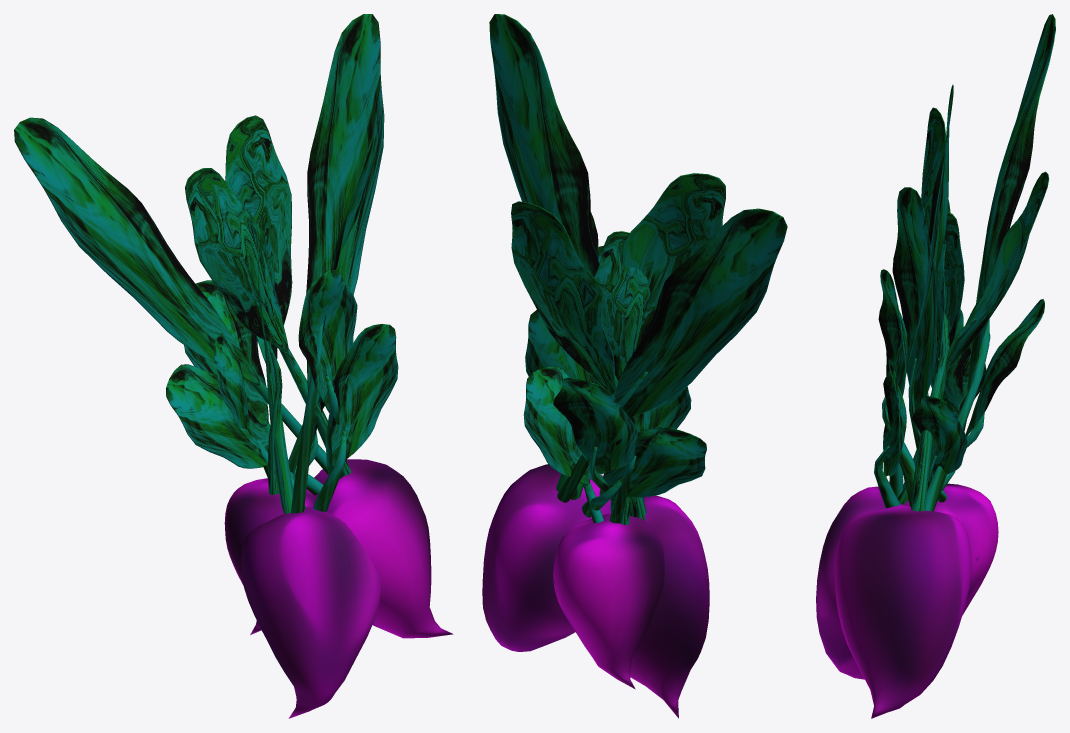
The model's file is beet.fbx.
The picture shows the model from 3 angles, left to right: view 1: azimuth 30°, elevation 25°; view 2: azimuth 150°, elevation 25°; view 3: azimuth 270°, elevation 25°; orthographic projection. The views are drawn at different scales.
Parts seen in each view (by area): view 1: pCylinder11; view 2: pCylinder11; view 3: pCylinder11.
Part boxes in pixels (box(x1,y1,x2,y2)): pCylinder11: box(14, 14, 453, 718); pCylinder11: box(482, 14, 787, 718); pCylinder11: box(816, 14, 1055, 718).
Bounding box in the file's own units: 6.23 × 10.89 × 3.63.
